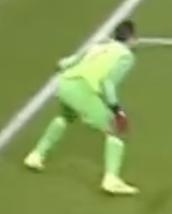goalkeeper: (21, 7, 172, 214)
